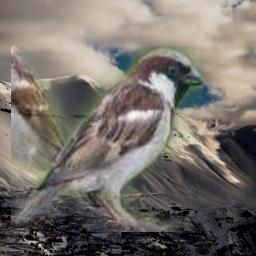Sparrow: (11, 46, 204, 232)
